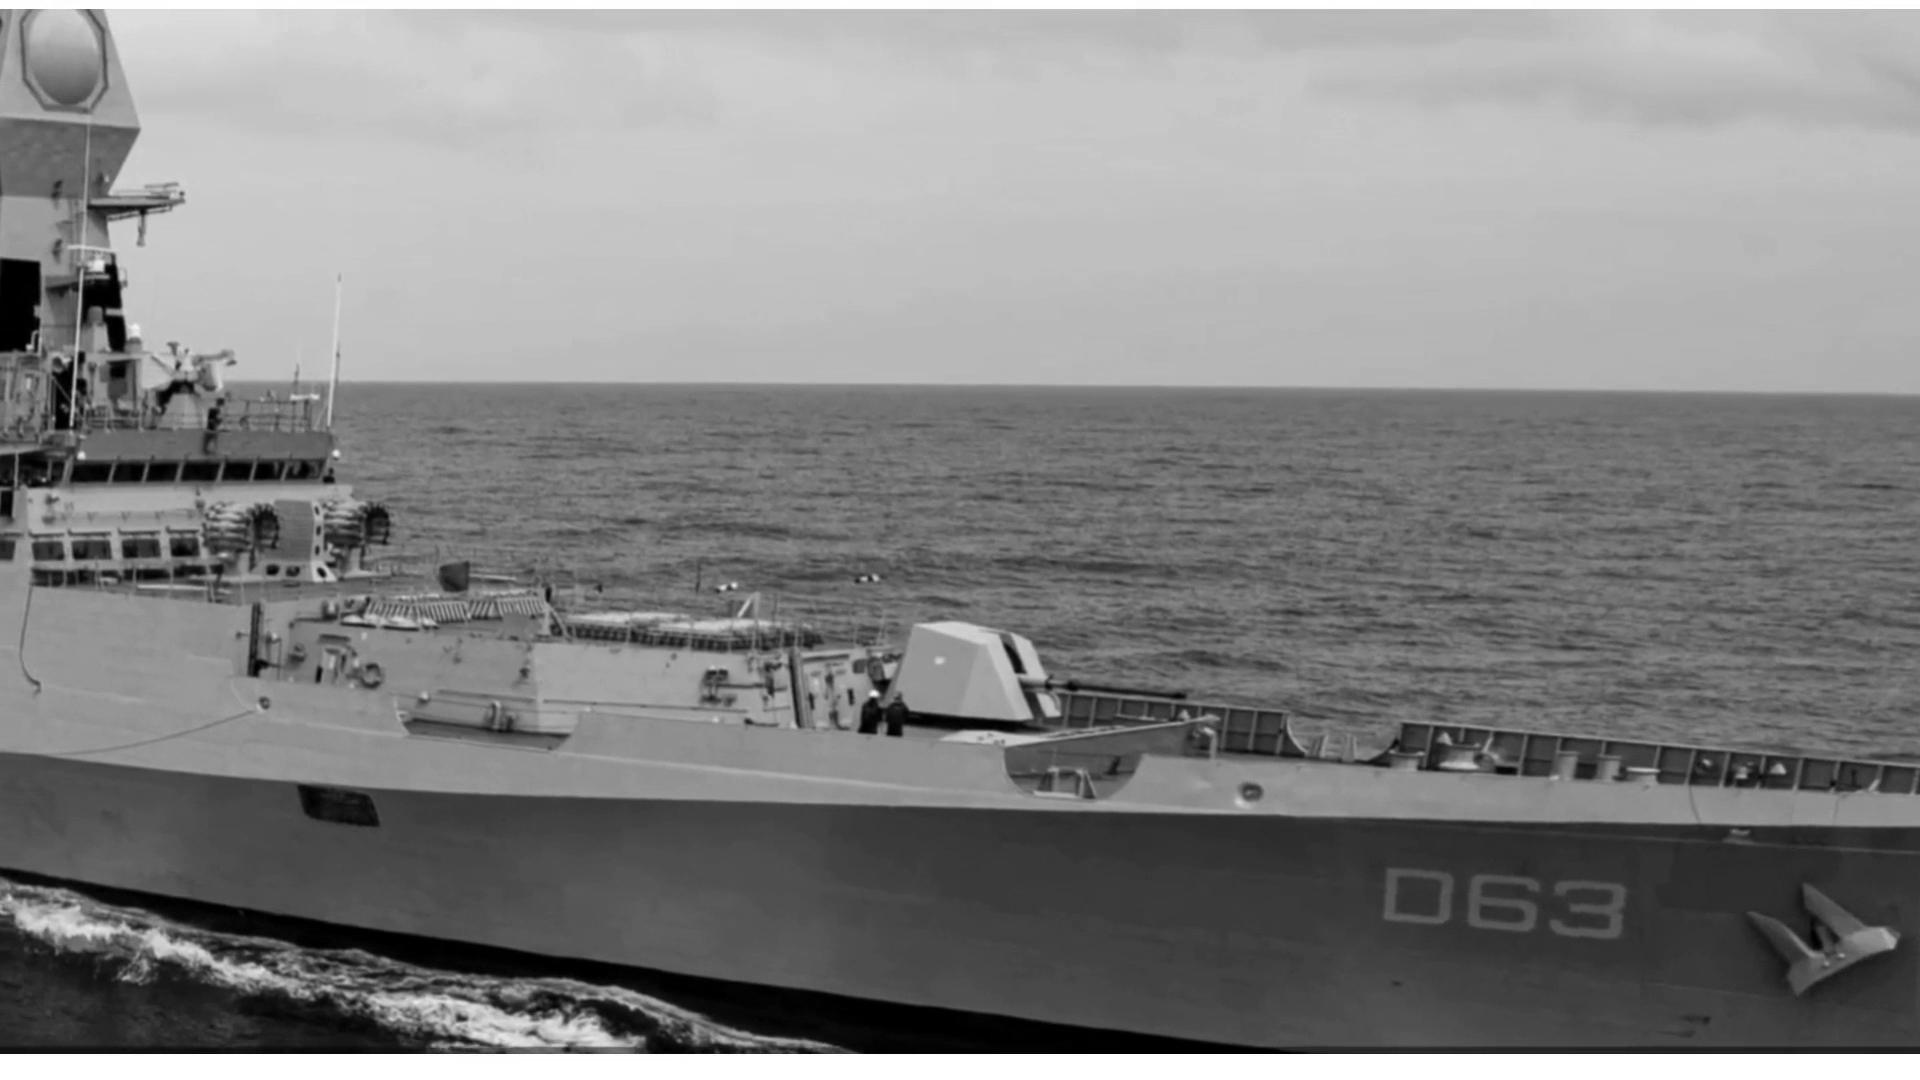OCR: (1379, 853, 1636, 949)
